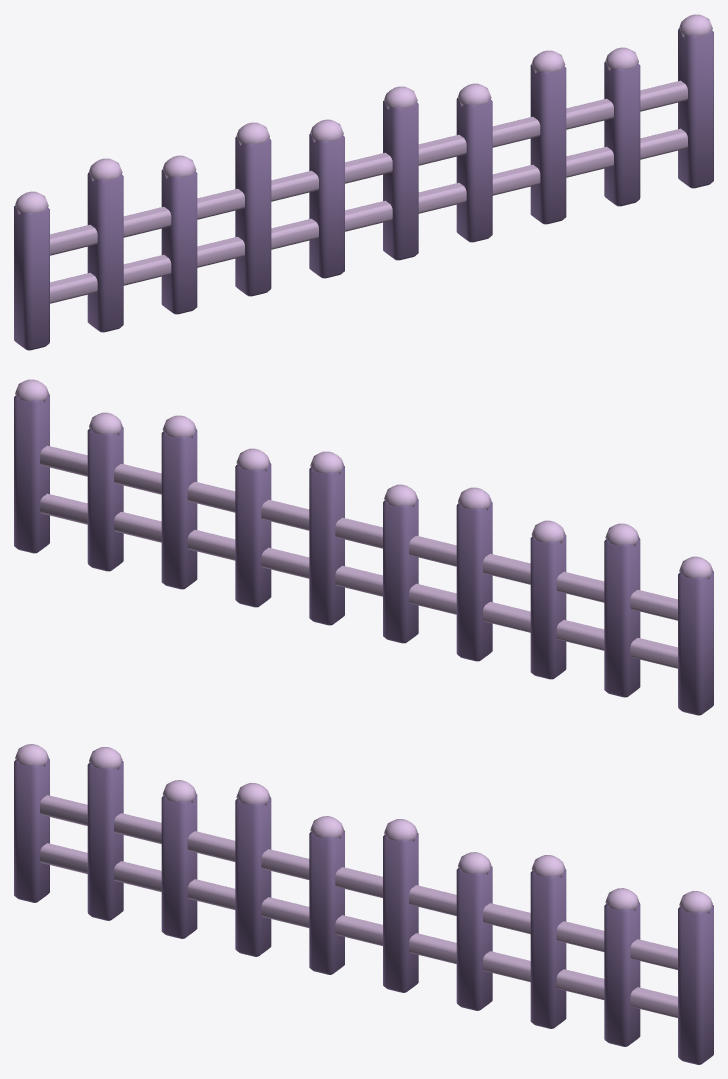
File: fence_4.glb
3 views of the same model, one above another, from view 1: azimuth 30°, elevation 25°; view 2: azimuth 150°, elevation 25°; view 3: azimuth 330°, elevation 25° (orthographic).
Parts seen in each view (by area): view 1: Fence; view 2: Fence; view 3: Fence.
Boxes of the visible parts, box(x1,y1,x2,y2) form: Fence: box(14, 14, 713, 350); Fence: box(14, 379, 713, 715); Fence: box(14, 744, 713, 1064).
Bounding box in the file's own units: 5.75 × 1.31 × 0.22.
